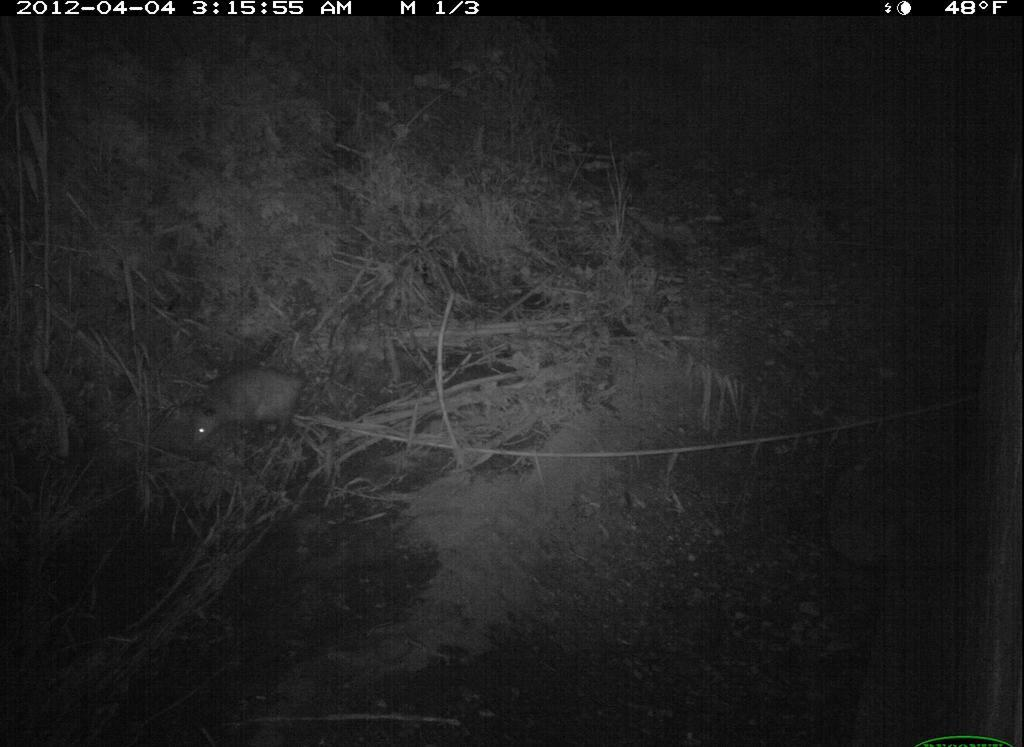opossum: (163, 346, 327, 457)
